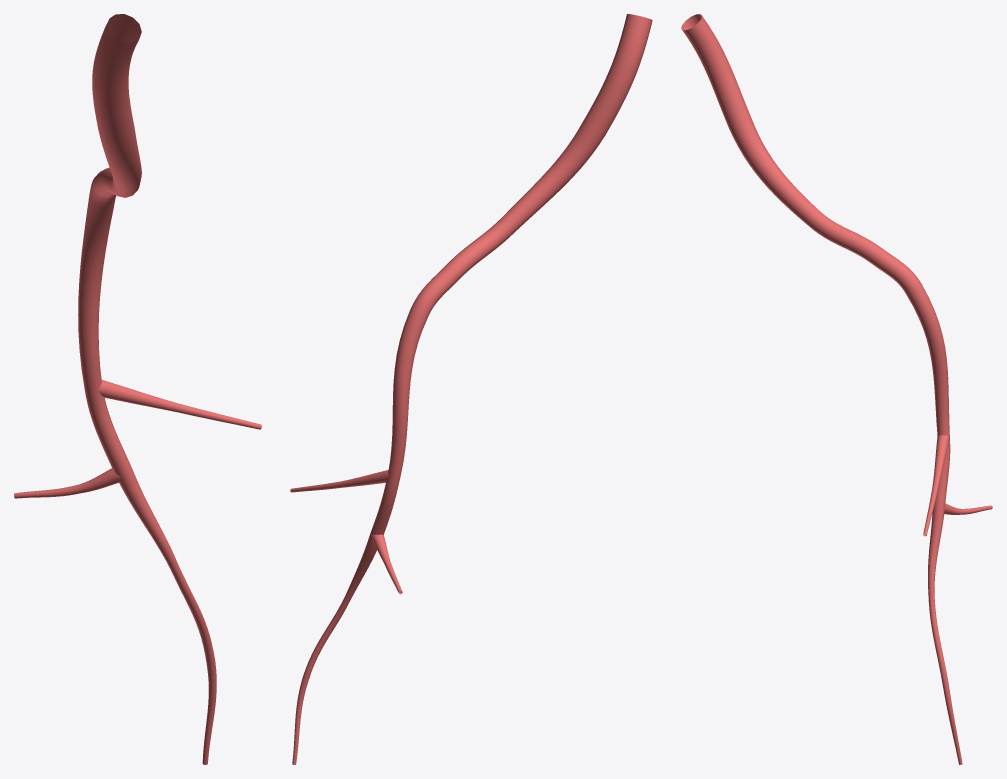
The model's file is Inferior_gluteal_artery.l_BezierCurve.108.glb.
The picture shows the model from 3 angles, left to right: view 1: azimuth 30°, elevation 25°; view 2: azimuth 150°, elevation 25°; view 3: azimuth 270°, elevation 25°; orthographic projection. The views are drawn at different scales.
Parts seen in each view (by area): view 1: Inferior_gluteal_artery.l_BezierCurve.108; view 2: Inferior_gluteal_artery.l_BezierCurve.108; view 3: Inferior_gluteal_artery.l_BezierCurve.108.
Part boxes in pixels (box(x1,y1,x2,y2)): Inferior_gluteal_artery.l_BezierCurve.108: box(14, 14, 261, 764); Inferior_gluteal_artery.l_BezierCurve.108: box(290, 14, 652, 764); Inferior_gluteal_artery.l_BezierCurve.108: box(681, 14, 992, 764).
Bounding box in the file's own units: 0.041 × 0.1159 × 0.0499.
